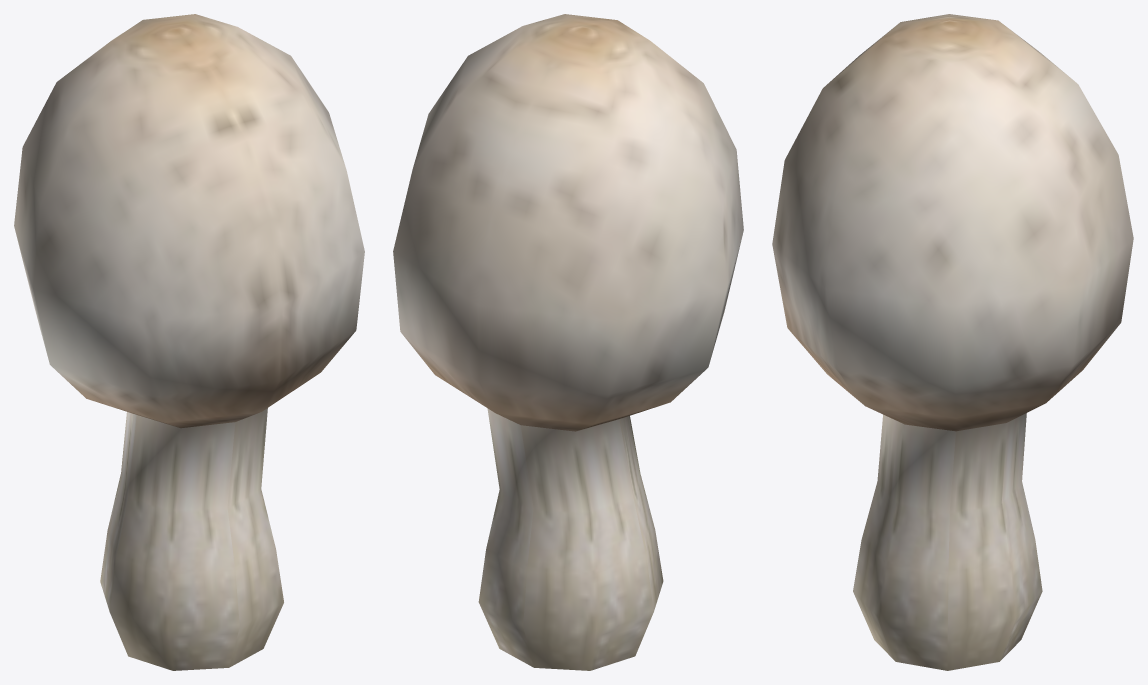
File: pir_m_prp_cav_mushroom_2.fbx
3 renders of one model, left to right at view 1: azimuth 30°, elevation 25°; view 2: azimuth 150°, elevation 25°; view 3: azimuth 270°, elevation 25°, orthographic.
Visible parts, largest first — view 1: lod_high; view 2: lod_high; view 3: lod_high.
Boxes of the visible parts, left/top/right/bottom form: lod_high: left=14, top=14, right=364, bottom=670; lod_high: left=393, top=14, right=743, bottom=670; lod_high: left=772, top=14, right=1133, bottom=670.
Size of the model in its own units: 150 by 280 by 150.
1 material, 1 textured.
